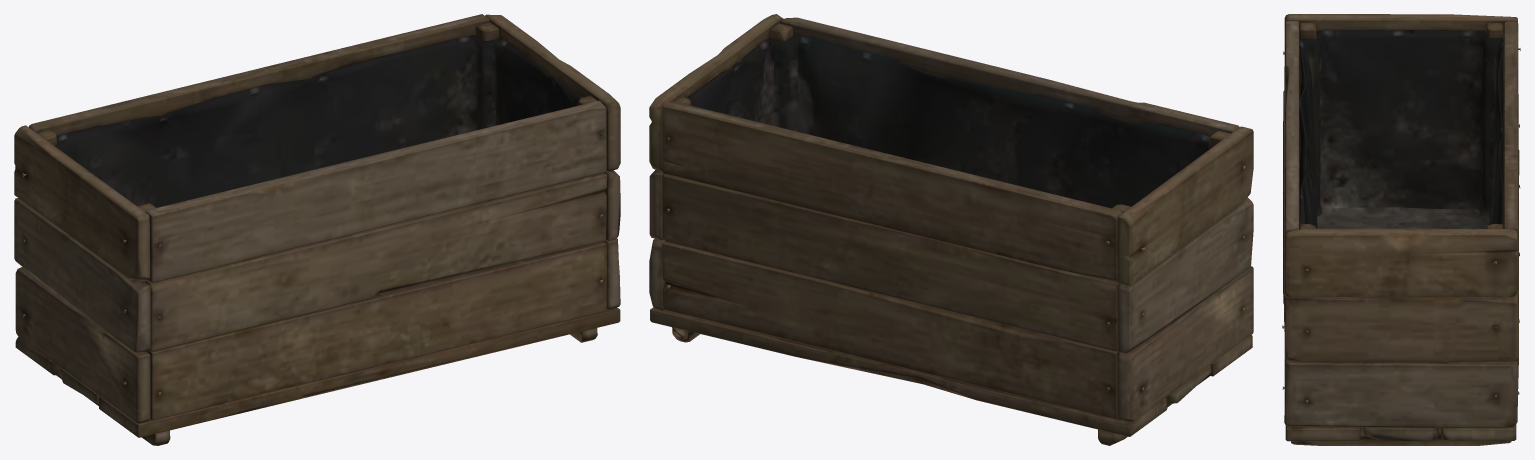
File: planter.glb
The picture shows the model from 3 angles, left to right: view 1: azimuth 30°, elevation 25°; view 2: azimuth 150°, elevation 25°; view 3: azimuth 270°, elevation 25°; orthographic projection. The views are drawn at different scales.
Visible parts, largest first — view 1: planter_box_01; view 2: planter_box_01; view 3: planter_box_01.
Part boxes in pixels (bbox=[...]): planter_box_01: bbox=[14, 14, 620, 445]; planter_box_01: bbox=[649, 14, 1253, 445]; planter_box_01: bbox=[1282, 14, 1520, 445].
Bounding box in the file's own units: 0.9126 × 0.4249 × 0.4137.
Materials: 1 (1 with a texture image).
